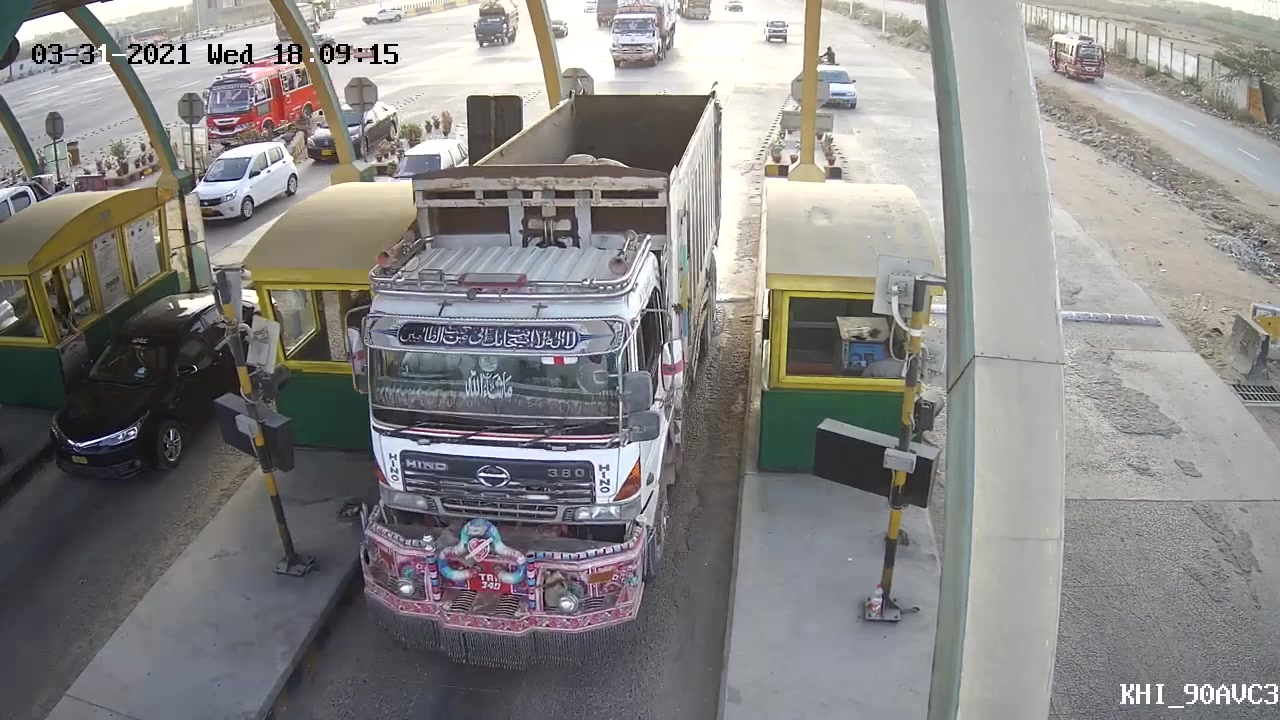F5: (357, 68, 737, 656)
